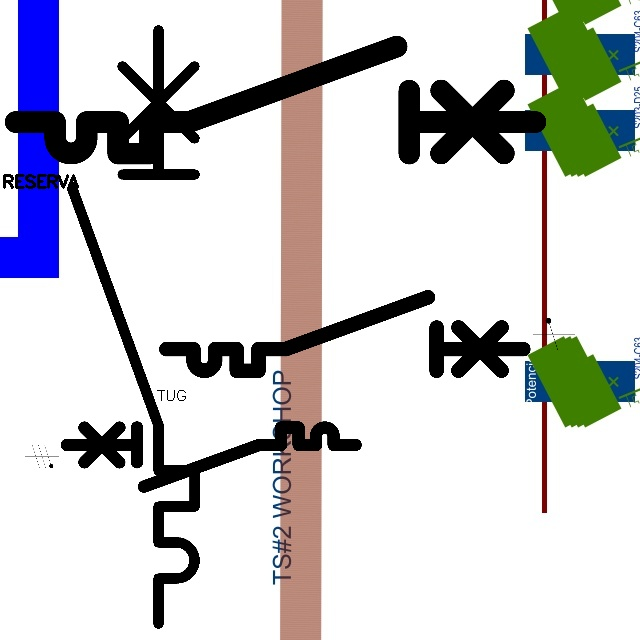interruptor_termomagnetico: (57, 15, 210, 639), (2, 33, 549, 167), (157, 288, 533, 380), (59, 420, 363, 494)
